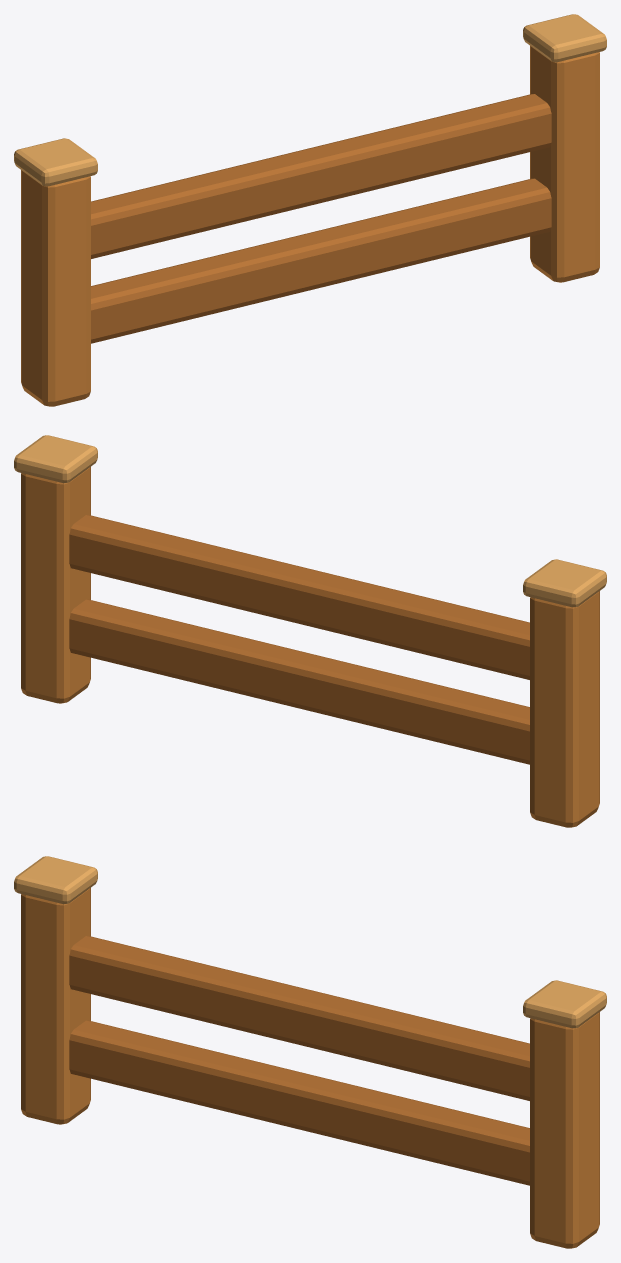
The model's file is Yard_Fence_Segment.fbx.
3 views of the same model, one above another, from view 1: azimuth 30°, elevation 25°; view 2: azimuth 150°, elevation 25°; view 3: azimuth 330°, elevation 25° (orthographic).
Parts seen in each view (by area): view 1: Body; view 2: Body; view 3: Body.
Boxes of the visible parts, bbox=[...] form: Body: bbox=[14, 14, 606, 406]; Body: bbox=[14, 435, 606, 827]; Body: bbox=[14, 856, 606, 1248].
Size of the model in its own units: 1.89 by 0.7715 by 0.189.
